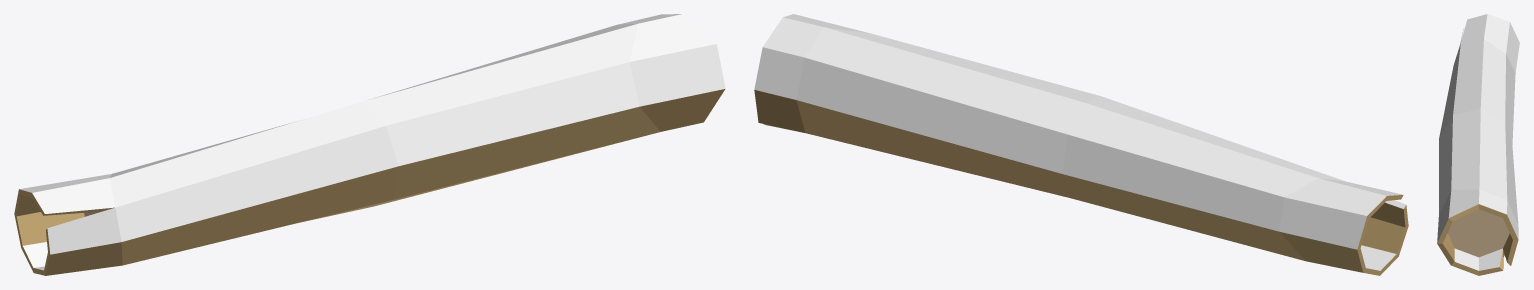
File: Simple_Log_Snow_07.fbx
The picture shows the model from 3 angles, left to right: view 1: azimuth 30°, elevation 25°; view 2: azimuth 150°, elevation 25°; view 3: azimuth 270°, elevation 25°; orthographic projection. The views are drawn at different scales.
Visible parts, largest first — view 1: Simple_Log_Snow_07; view 2: Simple_Log_Snow_07; view 3: Simple_Log_Snow_07.
Boxes of the visible parts, x1,y1,x2,y2 form: Simple_Log_Snow_07: (14, 14, 725, 275); Simple_Log_Snow_07: (754, 14, 1408, 275); Simple_Log_Snow_07: (1437, 14, 1519, 275).
Size of the model in its own units: 248 by 41.68 by 40.91.
